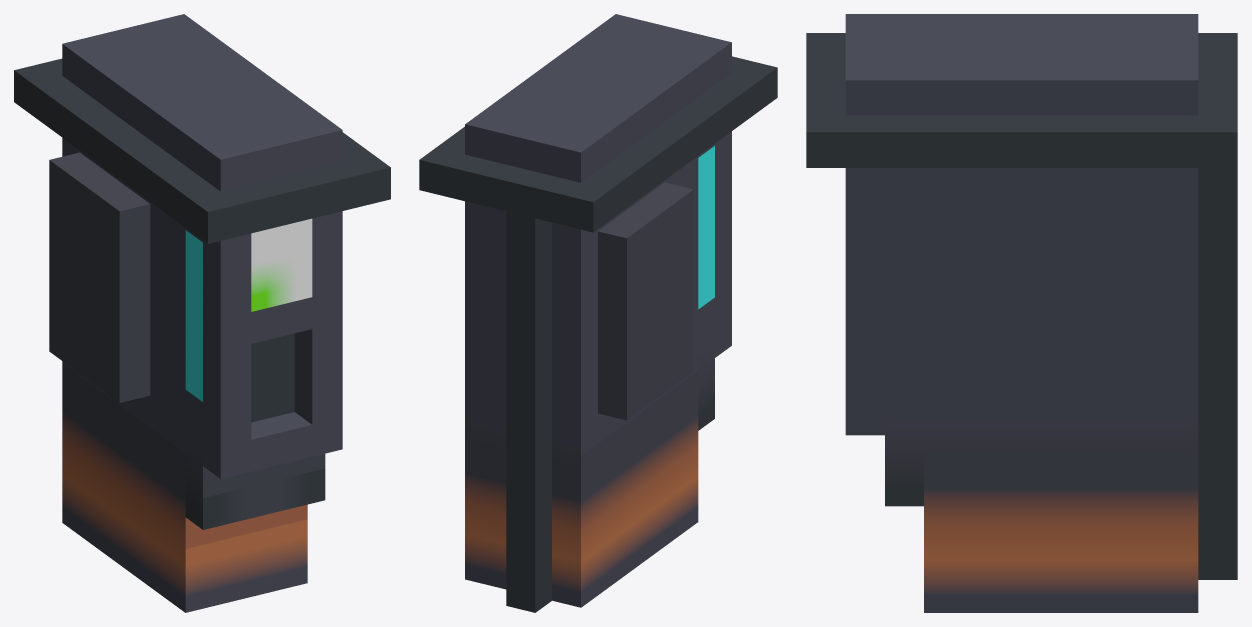
File: Machine_ATM-1.fbx
3 renders of one model, left to right at view 1: azimuth 30°, elevation 25°; view 2: azimuth 150°, elevation 25°; view 3: azimuth 270°, elevation 25°, orthographic. The views are drawn at different scales.
Parts seen in each view (by area): view 1: Machine_ATM_1; view 2: Machine_ATM_1; view 3: Machine_ATM_1.
Part boxes in pixels (x1,y1,x2,y2): Machine_ATM_1: (14, 14, 390, 612); Machine_ATM_1: (419, 14, 777, 612); Machine_ATM_1: (806, 14, 1237, 612).
Bounding box in the file's own units: 60 × 150 × 110.
Materials: 2 (2 with a texture image).
